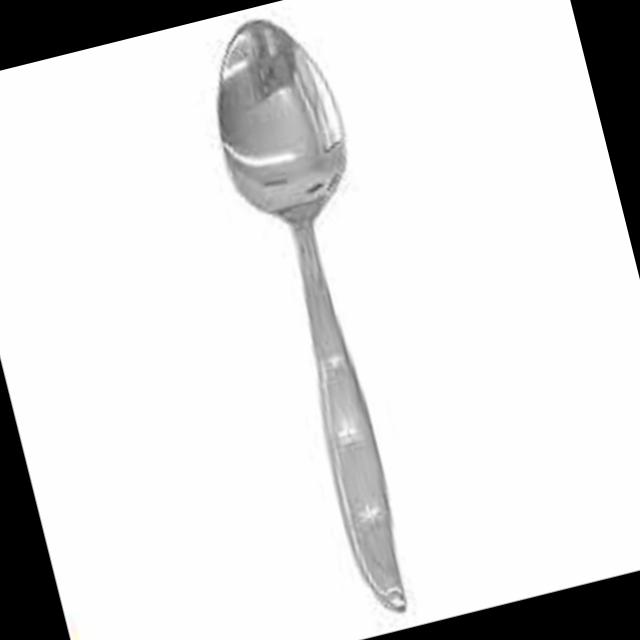spoon: (179, 0, 469, 631)
